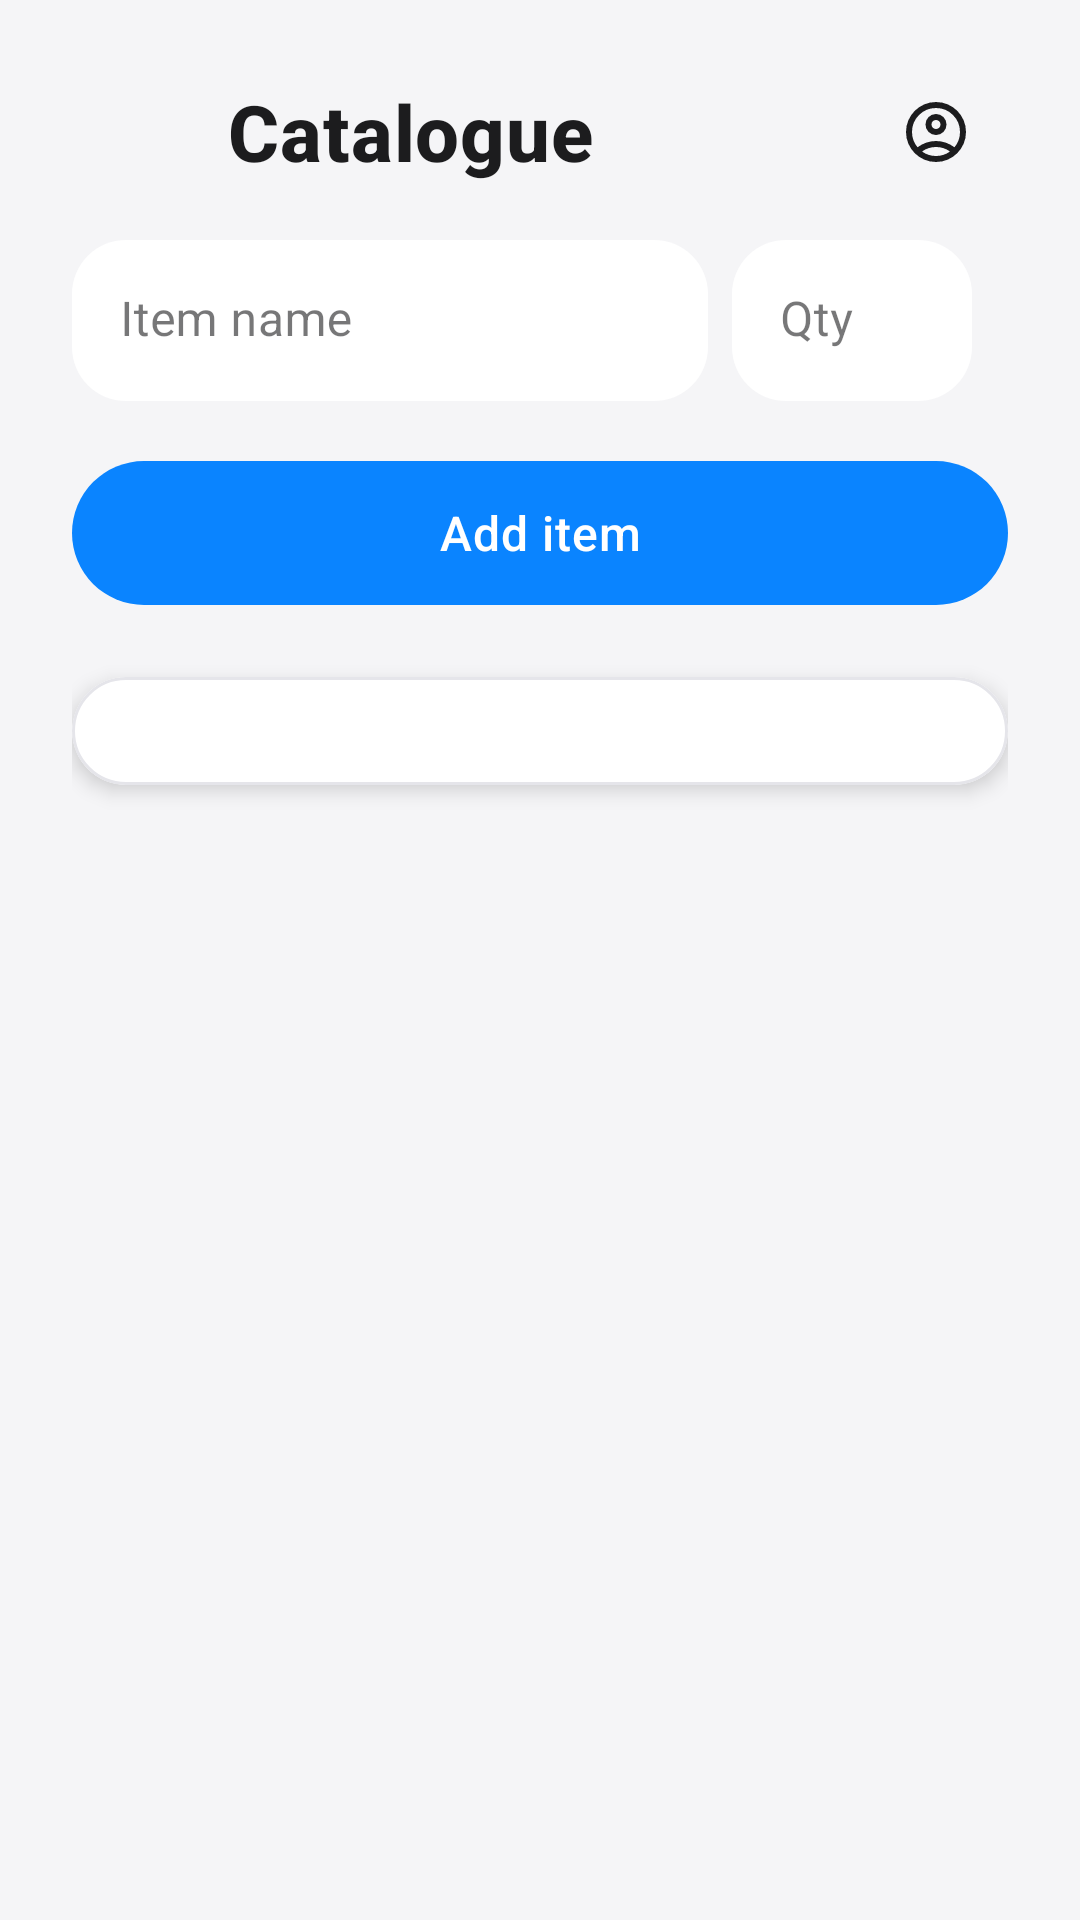

Locate icon controls on the screen. Image size 1080px×1920px, boxes as {"left": x1, "top": y1, "right": x2, "bottom": y2}.
Profile options: {"left": 906, "top": 102, "right": 966, "bottom": 162}
